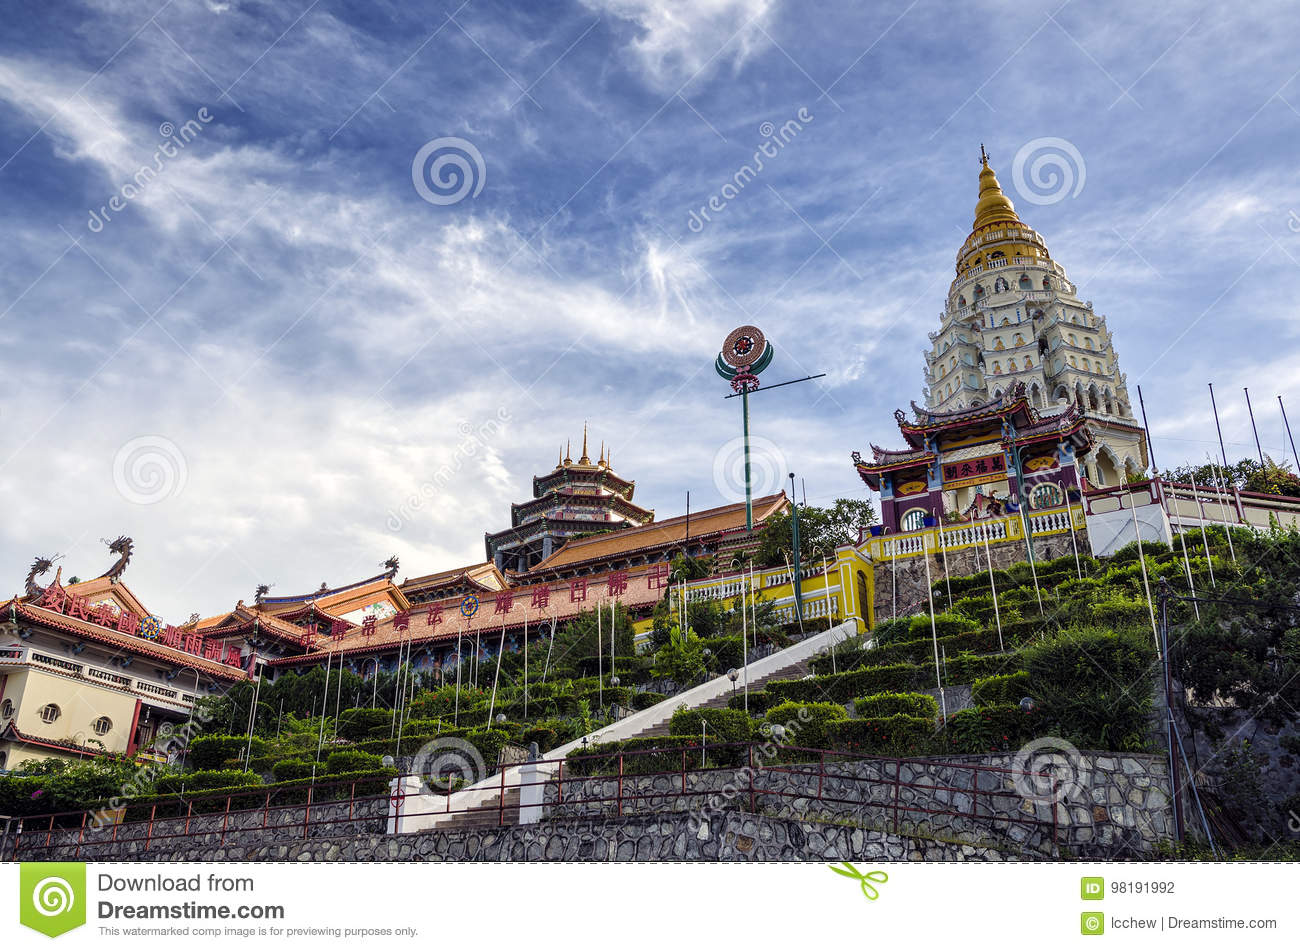Buddhist Temple: (33, 457, 801, 768), (855, 141, 1142, 552)
